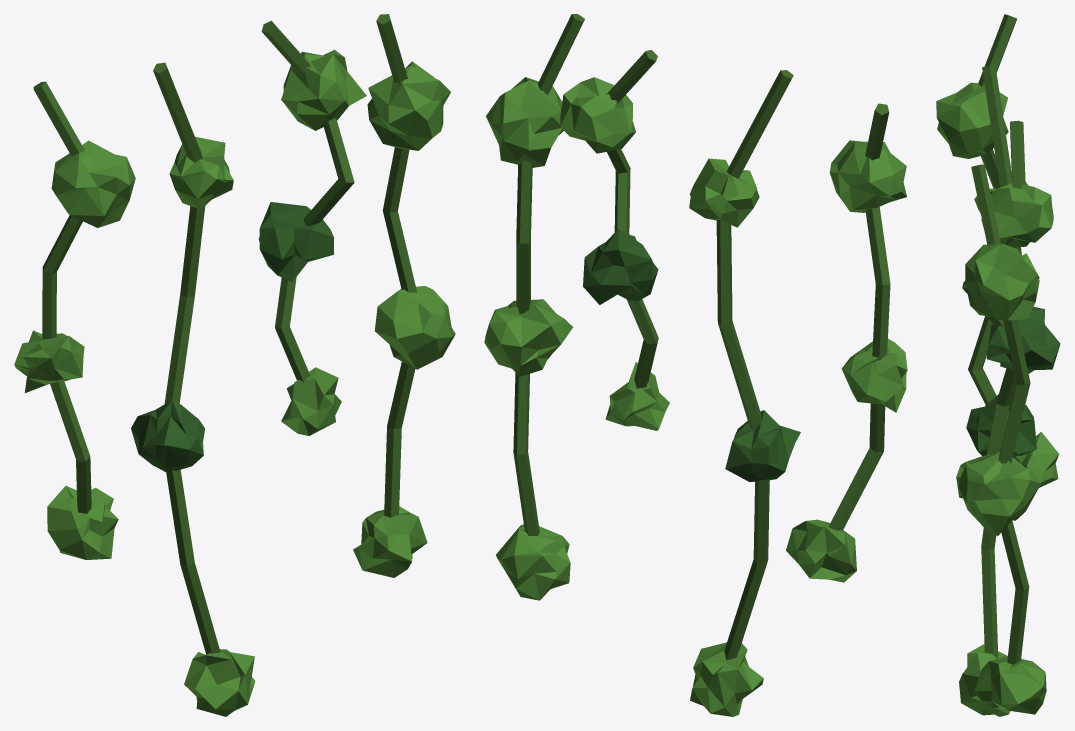
The model's file is hanging_vines.glb.
The picture shows the model from 3 angles, left to right: view 1: azimuth 30°, elevation 25°; view 2: azimuth 150°, elevation 25°; view 3: azimuth 270°, elevation 25°; orthographic projection. The views are drawn at different scales.
Visible parts, largest first — view 1: hanging_vines; view 2: hanging_vines; view 3: hanging_vines.
Boxes of the visible parts, bbox=[...] form: hanging_vines: bbox=[14, 14, 455, 716]; hanging_vines: bbox=[484, 14, 907, 716]; hanging_vines: bbox=[936, 14, 1060, 716].
Bounding box in the file's own units: 1.57 × 2.33 × 0.4222.
